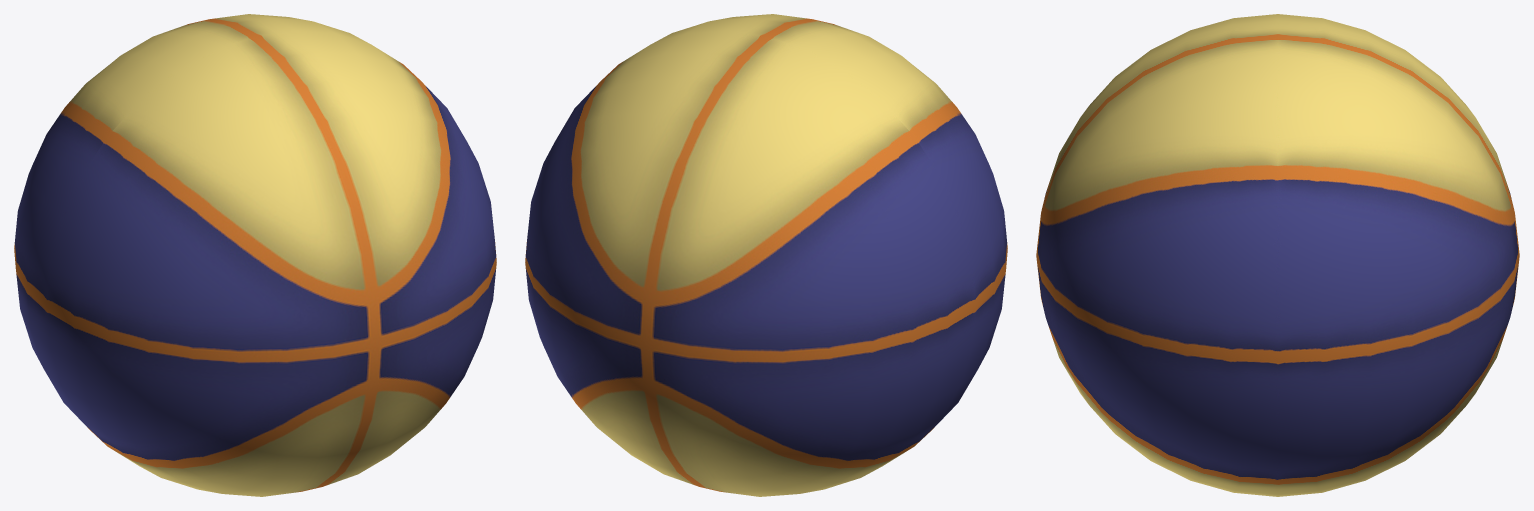
Rendered from basketball-2.glb.
The picture shows the model from 3 angles, left to right: view 1: azimuth 30°, elevation 25°; view 2: azimuth 150°, elevation 25°; view 3: azimuth 270°, elevation 25°; orthographic projection.
Parts seen in each view (by area): view 1: Basketball_mesh; view 2: Basketball_mesh; view 3: Basketball_mesh.
Part boxes in pixels (x1,y1,x2,y2): Basketball_mesh: [14, 14, 496, 496]; Basketball_mesh: [525, 14, 1007, 496]; Basketball_mesh: [1036, 14, 1519, 496].
Bounding box in the file's own units: 7.82 × 7.82 × 7.82.
1 material, 1 textured.
